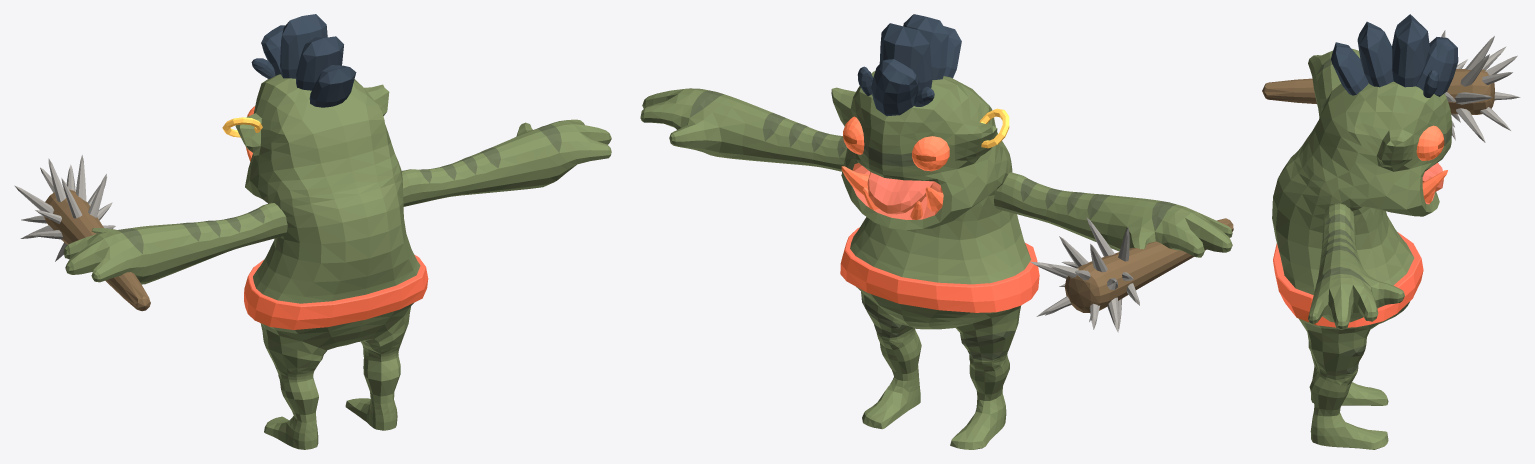
The model's file is demon_lieutenant.glb.
The picture shows the model from 3 angles, left to right: view 1: azimuth 30°, elevation 25°; view 2: azimuth 150°, elevation 25°; view 3: azimuth 270°, elevation 25°; orthographic projection. The views are drawn at different scales.
Visible parts, largest first — view 1: lt_body, lt_trim; view 2: lt_body, lt_trim; view 3: lt_body, lt_trim.
Boxes of the visible parts, x1,y1,x2,y2 form: lt_body: (14, 14, 611, 449); lt_trim: (222, 106, 428, 329); lt_body: (640, 14, 1233, 449); lt_trim: (840, 108, 1039, 312); lt_body: (1262, 14, 1520, 449); lt_trim: (1273, 125, 1447, 327).
Size of the model in its own units: 2.92 by 2 by 1.17.
